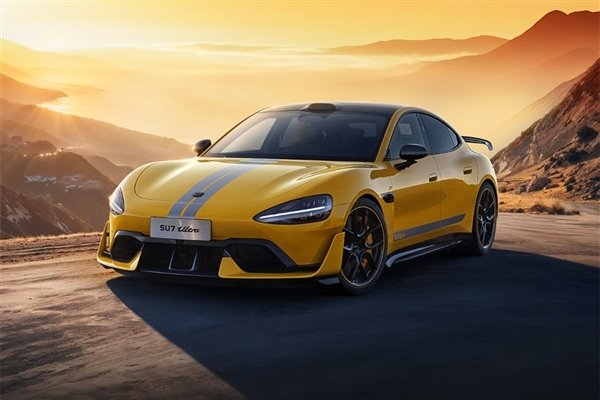su7: (103, 100, 502, 290)
